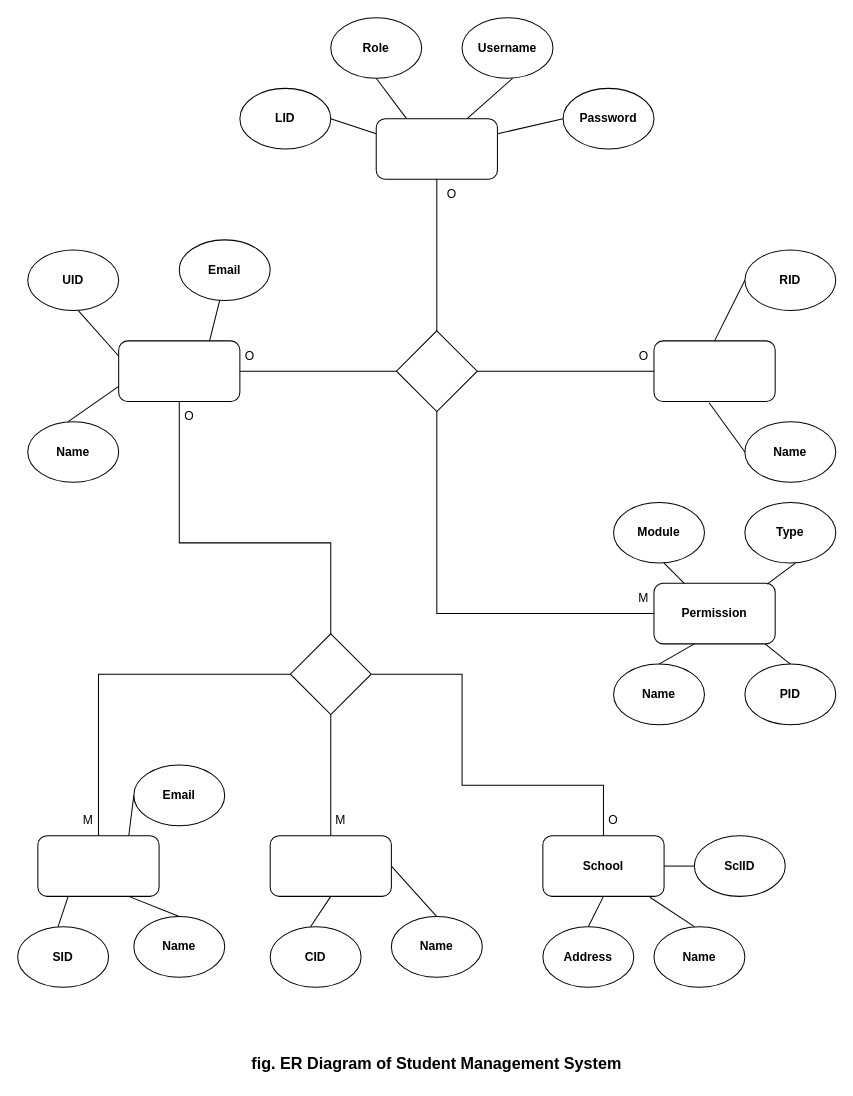
This 853x1096 diagram has some shape labels left out. Here are the shapes that lost their labels. From the top down, the centre of each, then its label:
[436,148]: Login
[179,370]: User
[436,371]: has
[714,370]: Roles
[330,674]: Manages
[98,865]: Student
[330,865]: Course
